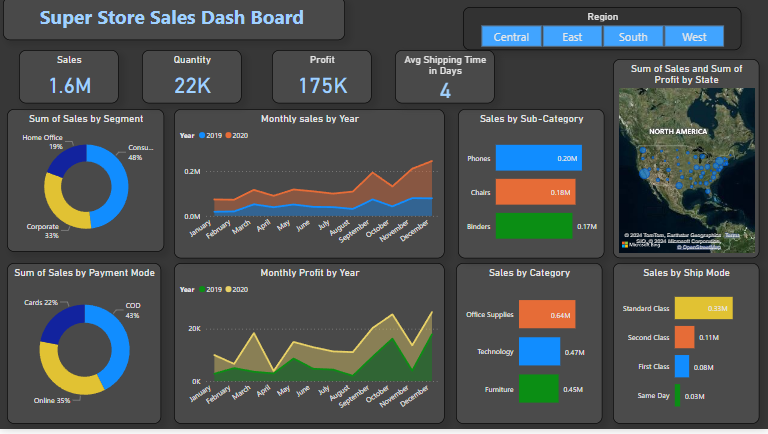

The dashboard page shown, as its layout file describes it:
{"tool":"powerbi","page":{"name":"Page 1","canvas":[1280,720],"ordinal":0},"visuals":[{"type":"clusteredBarChart","title":"Sales by Category","fields":{"Category":["SuperStore_Sales_Dataset.Category"],"Y":["Sum(SuperStore_Sales_Dataset.Sales)"]},"box":[760.8,443.7,243.5,268.1],"z":0},{"type":"clusteredBarChart","title":"Sales by Sub-Category","fields":{"Category":["SuperStore_Sales_Dataset.Sub-Category"],"Y":["Sum(SuperStore_Sales_Dataset.Sales)"]},"box":[762.7,186.9,243.5,249.2],"z":1000},{"type":"clusteredBarChart","title":"Sales by Ship Mode","fields":{"Category":["SuperStore_Sales_Dataset.Ship Mode"],"Y":["Sum(SuperStore_Sales_Dataset.Sales)"]},"box":[1021.4,443.7,243.5,268.1],"z":2000},{"type":"stackedAreaChart","title":"Monthly sales by Year","fields":{"Category":["SuperStore_Sales_Dataset.Order Date.Variation.Date Hierarchy.Month"],"Y":["Sum(SuperStore_Sales_Dataset.Sales)"],"Series":["SuperStore_Sales_Dataset.Order Date.Variation.Date Hierarchy.Year"]},"box":[290.7,186.9,451.2,249.2],"z":3000},{"type":"stackedAreaChart","title":"Monthly Profit by Year","fields":{"Category":["SuperStore_Sales_Dataset.Order Date.Variation.Date Hierarchy.Month"],"Series":["SuperStore_Sales_Dataset.Order Date.Variation.Date Hierarchy.Year"],"Y":["Sum(SuperStore_Sales_Dataset.Profit)"]},"box":[290.7,443.7,451.2,268.1],"z":4000},{"type":"map","fields":{"Category":["SuperStore_Sales_Dataset.State"],"Size":["Sum(SuperStore_Sales_Dataset.Sales)"]},"box":[1021.4,103.8,243.5,332.3],"z":5000},{"type":"donutChart","fields":{"Y":["Sum(SuperStore_Sales_Dataset.Sales)"],"Category":["SuperStore_Sales_Dataset.Segment"]},"box":[11.3,186.9,262.4,237.9],"z":6000},{"type":"donutChart","fields":{"Y":["Sum(SuperStore_Sales_Dataset.Sales)"],"Category":["SuperStore_Sales_Dataset.Payment Mode"]},"box":[11.3,443.7,256.8,268.1],"z":7000},{"type":"slicer","title":"Region","fields":{"Values":["SuperStore_Sales_Dataset.Region"]},"box":[772.2,17,464.4,71.7],"z":8000},{"type":"textbox","box":[5.7,0,570.1,71.7],"z":9000},{"type":"card","title":"Sales","fields":{"Values":["Sum(SuperStore_Sales_Dataset.Sales)"]},"box":[32.1,88.7,166.1,88.7],"z":10000},{"type":"card","title":"Quantity","fields":{"Values":["Sum(SuperStore_Sales_Dataset.Quantity)"]},"box":[236,88.7,166.1,88.7],"z":11000},{"type":"card","title":"Profit","fields":{"Values":["Sum(SuperStore_Sales_Dataset.Profit)"]},"box":[453.1,88.7,166.1,88.7],"z":12000},{"type":"card","title":"Avg Shipping Time in Days","fields":{"Values":["Avg(SuperStore_Sales_Dataset.Avg_delivery)"]},"box":[658.9,88.7,166.1,88.7],"z":13000}]}

Visuals, with their boxes in screenshot pixels (x1, y1, x2, y2), scaled from the page's 1280x720 canvas onto the 768x434 screenshot:
"Sales by Category" clusteredBarChart: bbox(456, 267, 603, 429)
"Sales by Sub-Category" clusteredBarChart: bbox(458, 113, 604, 263)
"Sales by Ship Mode" clusteredBarChart: bbox(613, 267, 759, 429)
"Monthly sales by Year" stackedAreaChart: bbox(174, 113, 445, 263)
"Monthly Profit by Year" stackedAreaChart: bbox(174, 267, 445, 429)
map - SuperStore_Sales_Dataset.State x Sum(SuperStore_Sales_Dataset.Sales): bbox(613, 63, 759, 263)
donutChart - Sum(SuperStore_Sales_Dataset.Sales) x SuperStore_Sales_Dataset.Segment: bbox(7, 113, 164, 256)
donutChart - Sum(SuperStore_Sales_Dataset.Sales) x SuperStore_Sales_Dataset.Payment Mode: bbox(7, 267, 161, 429)
"Region" slicer: bbox(463, 10, 742, 53)
textbox: bbox(3, 0, 345, 43)
"Sales" card: bbox(19, 53, 119, 107)
"Quantity" card: bbox(142, 53, 241, 107)
"Profit" card: bbox(272, 53, 372, 107)
"Avg Shipping Time in Days" card: bbox(395, 53, 495, 107)
